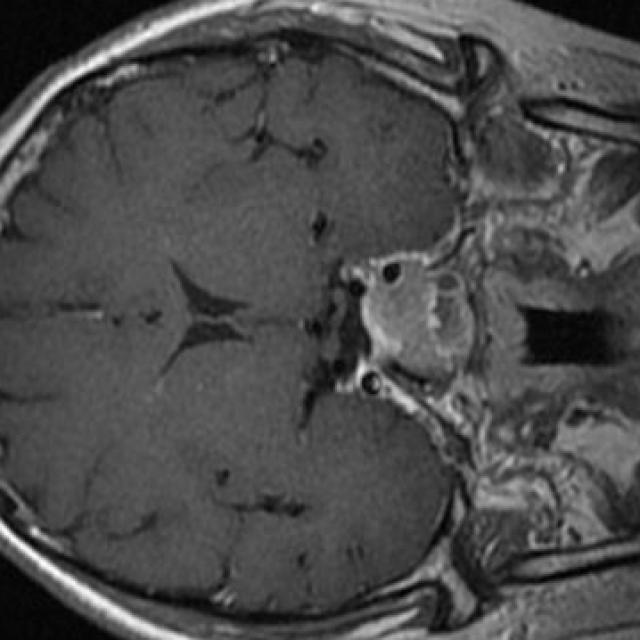pituitary: (362, 262, 435, 369)
